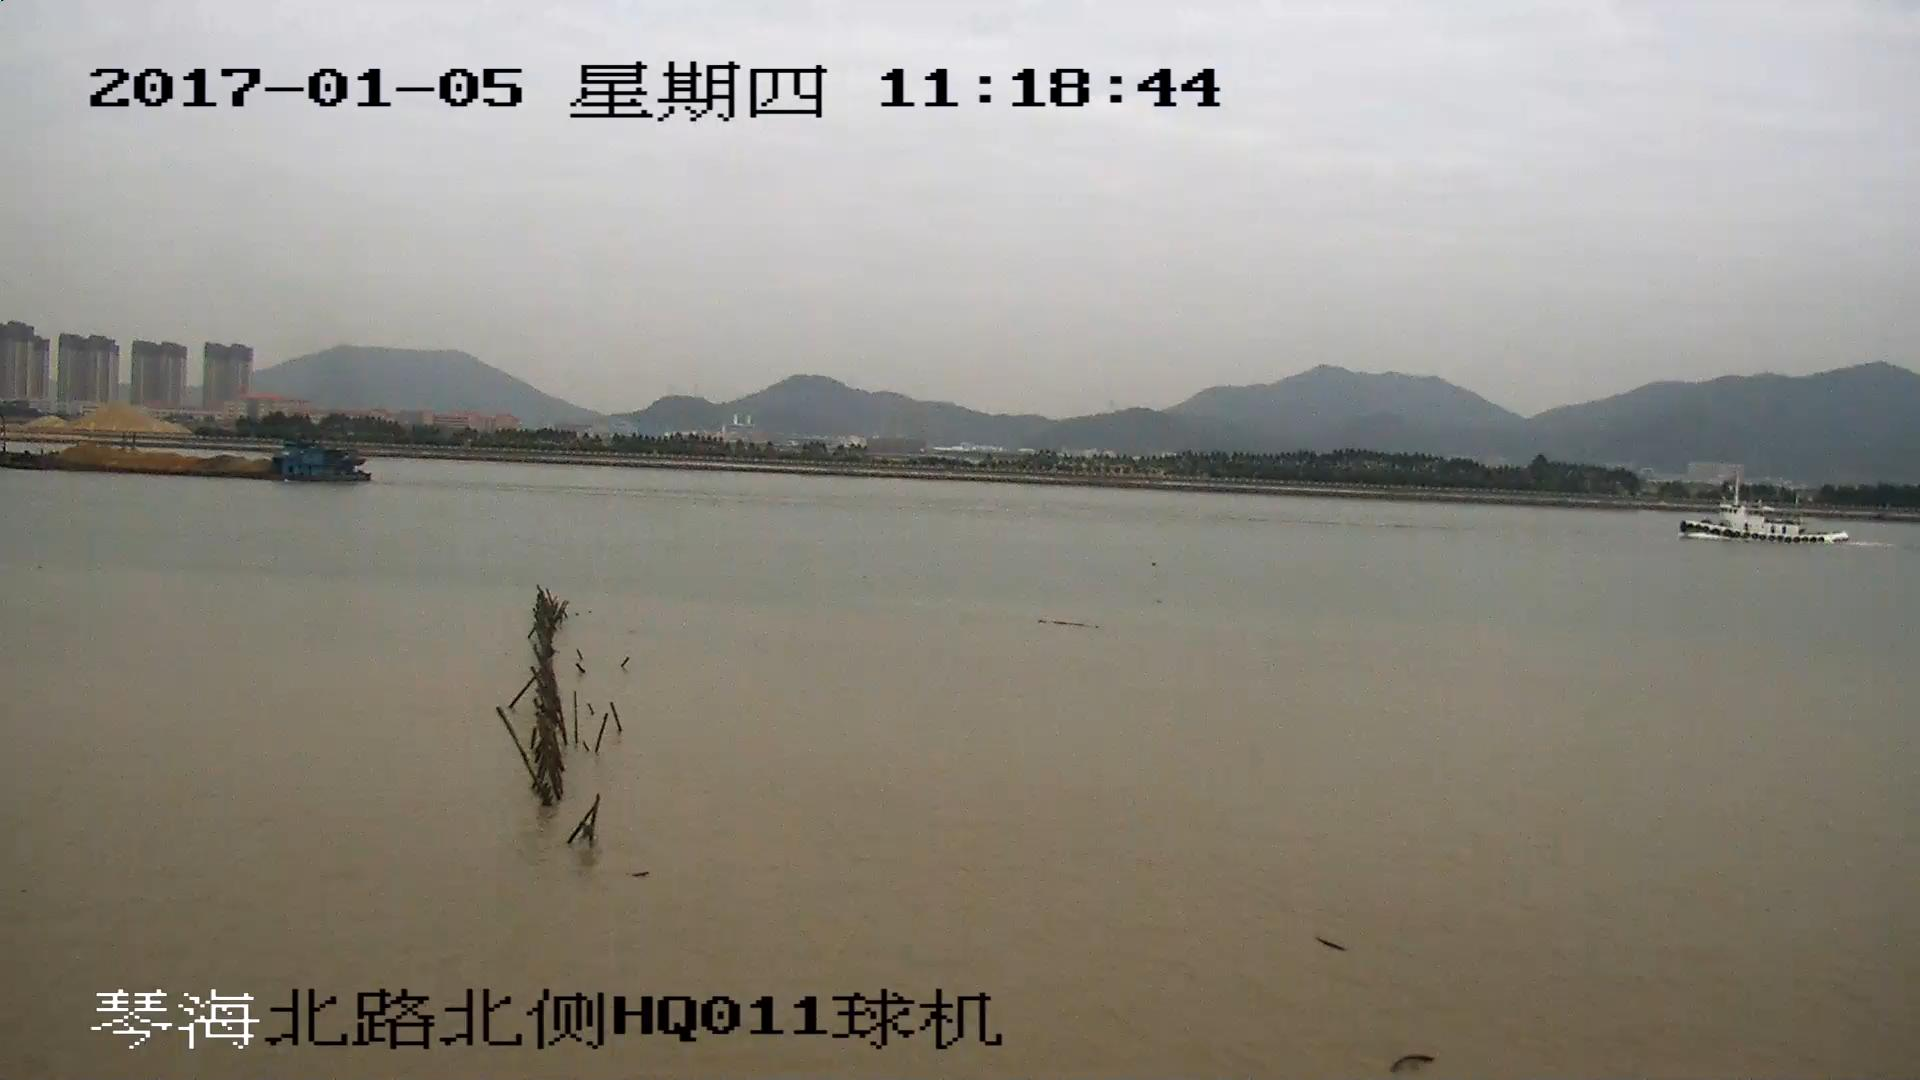fishing boat: (1686, 476, 1846, 546)
ore carrier: (1, 441, 362, 484)
